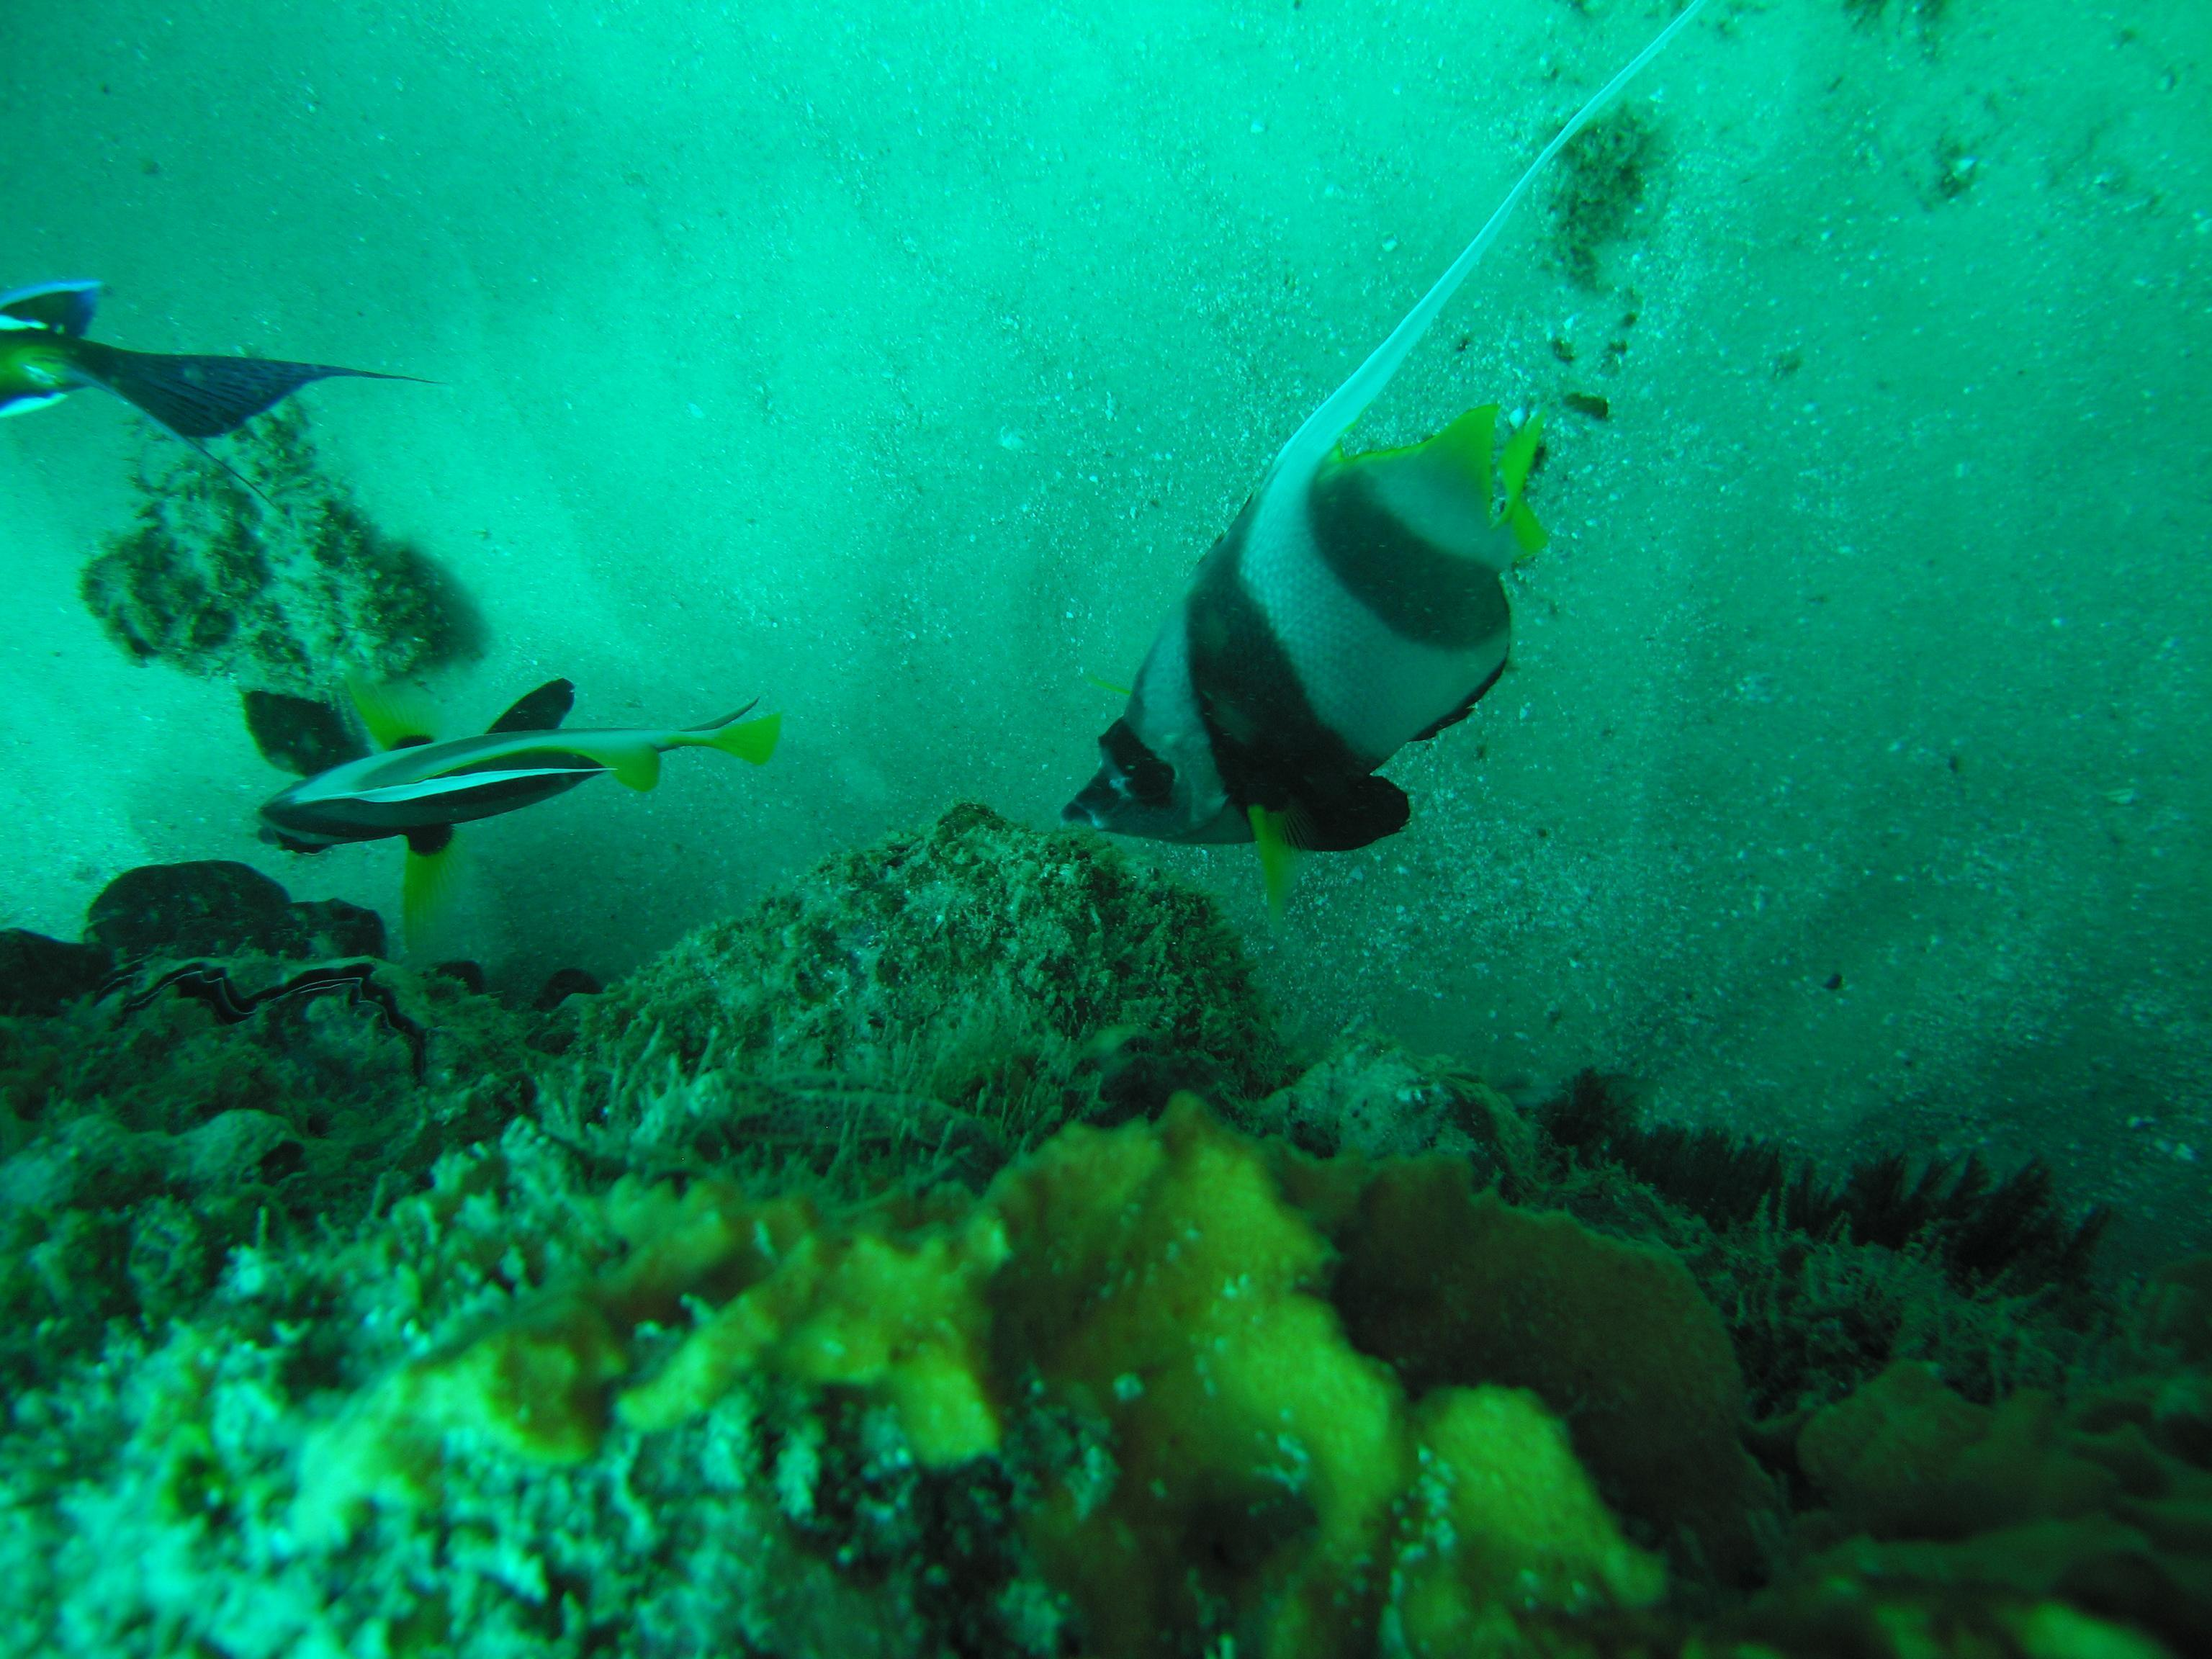Heniochus acuminatus: (981, 784, 2212, 1342), (932, 150, 1404, 586)
